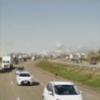cars: (42, 82, 85, 100), (16, 72, 34, 86)
